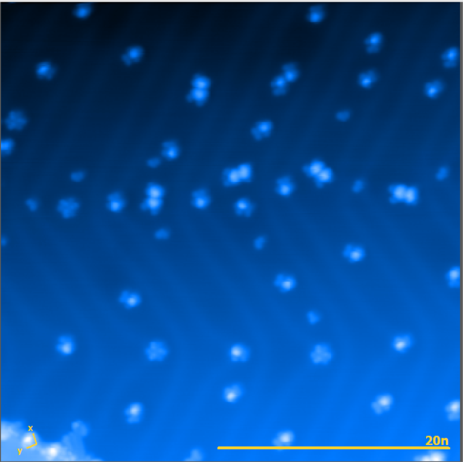R: (3, 108, 28, 131), (144, 339, 167, 362), (309, 342, 332, 365)
S: (55, 195, 80, 219)
